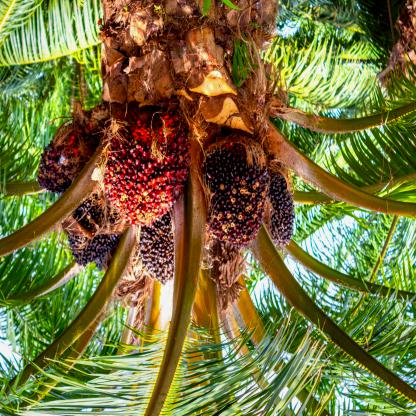1: (103, 113, 188, 228), (199, 138, 271, 248), (34, 121, 96, 197)
palm-oil: (65, 206, 122, 268), (142, 219, 186, 290), (266, 168, 299, 254)
